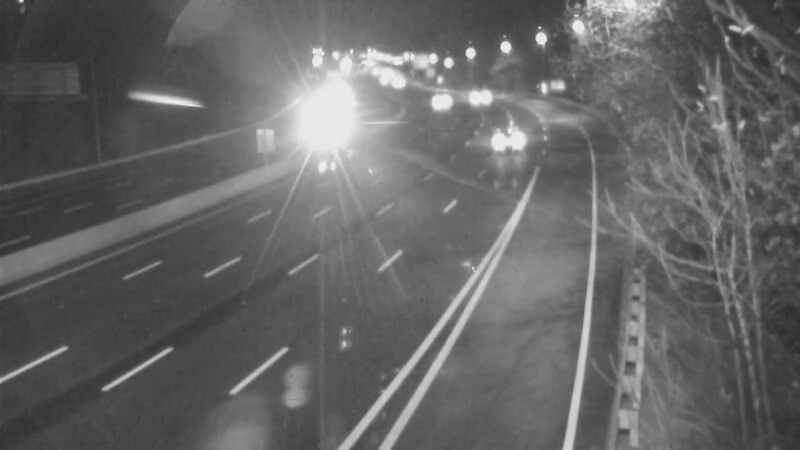vehicle: (415, 74, 465, 124), (451, 71, 501, 121), (486, 115, 536, 165)
